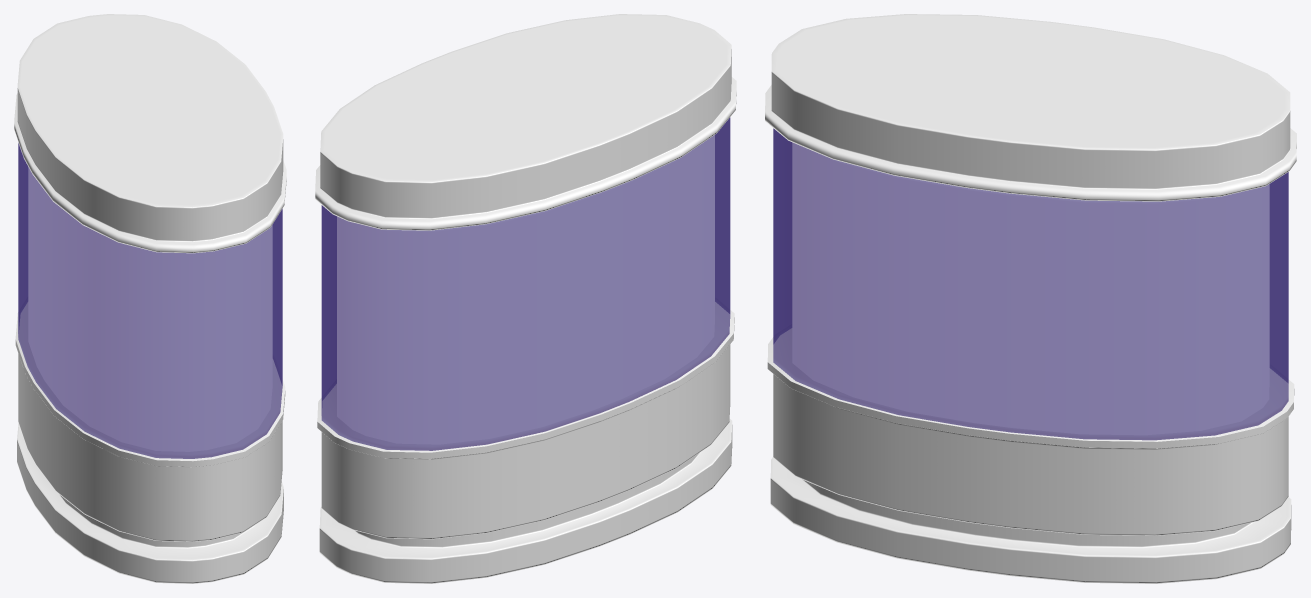
Rendered from aquario.fbx.
3 renders of one model, left to right at view 1: azimuth 30°, elevation 25°; view 2: azimuth 150°, elevation 25°; view 3: azimuth 270°, elevation 25°, orthographic. The views are drawn at different scales.
Visible parts, largest first — view 1: polySurface66; view 2: polySurface66; view 3: polySurface66.
Boxes of the visible parts, box(x1,y1,x2,y2) form: polySurface66: box(14, 14, 286, 583); polySurface66: box(315, 14, 736, 583); polySurface66: box(765, 14, 1296, 583).
Bounding box in the file's own units: 0.1651 × 0.241 × 0.2674.
